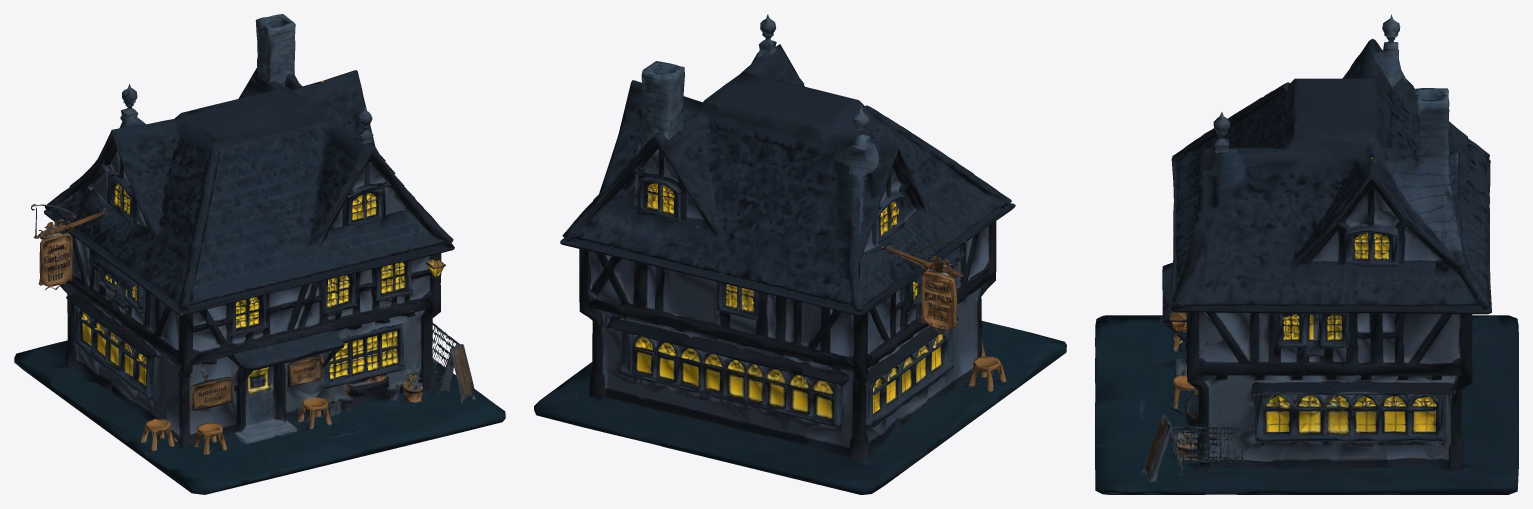
Rendered from tavern.glb.
3 renders of one model, left to right at view 1: azimuth 30°, elevation 25°; view 2: azimuth 150°, elevation 25°; view 3: azimuth 270°, elevation 25°, orthographic. The views are drawn at different scales.
Size of the model in its own units: 1.9 by 1.63 by 1.77.
1 material, 1 textured.
